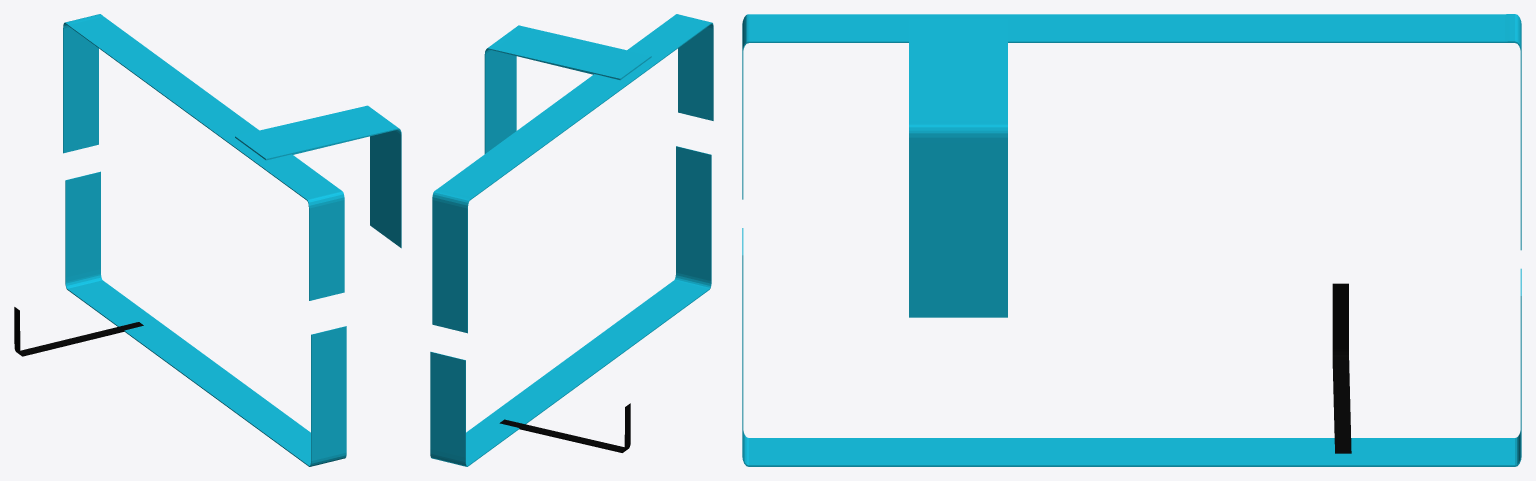
The model's file is tape_close_5.fbx.
3 renders of one model, left to right at view 1: azimuth 30°, elevation 25°; view 2: azimuth 150°, elevation 25°; view 3: azimuth 270°, elevation 25°, orthographic. The views are drawn at different scales.
Visible parts, largest first — view 1: tape_0.021, 평면.078, 평면.079; view 2: tape_0.021, 평면.078, 평면.079; view 3: tape_0.021, 평면.078, 평면.079.
Part boxes in pixels (x1,y1,x2,y2): tape_0.021: (63,14,346,466); 평면.078: (235,105,401,248); 평면.079: (14,307,143,356); tape_0.021: (430,14,713,466); 평면.078: (484,25,651,153); 평면.079: (499,403,630,452); tape_0.021: (742,14,1521,466); 평면.078: (909,19,1007,317); 평면.079: (1332,283,1351,453).
Bounding box in the file's own units: 146 × 151 × 251.
